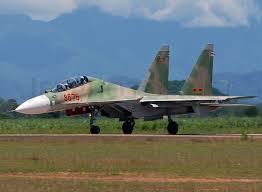maybay_muctieu: (11, 47, 252, 137)
